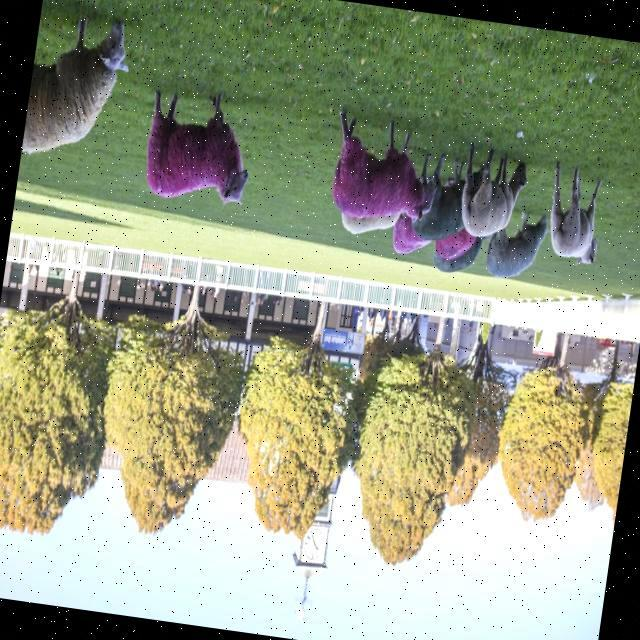sheep: (22, 21, 128, 155), (146, 90, 248, 203)
